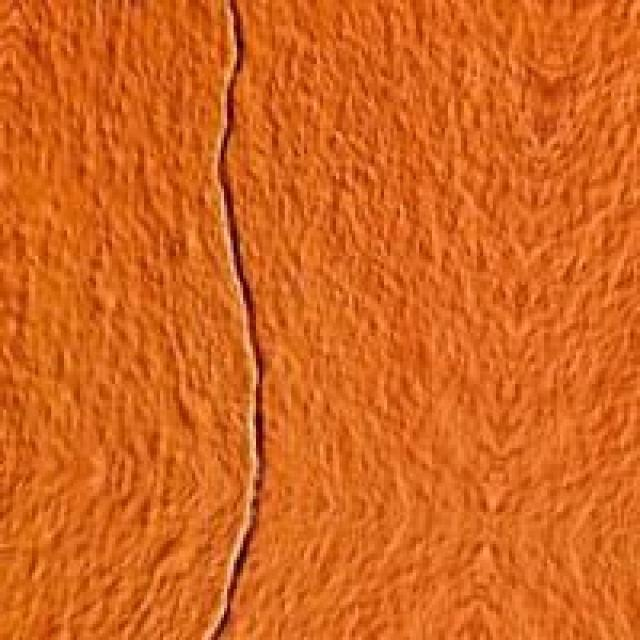crack: (172, 0, 300, 640)
